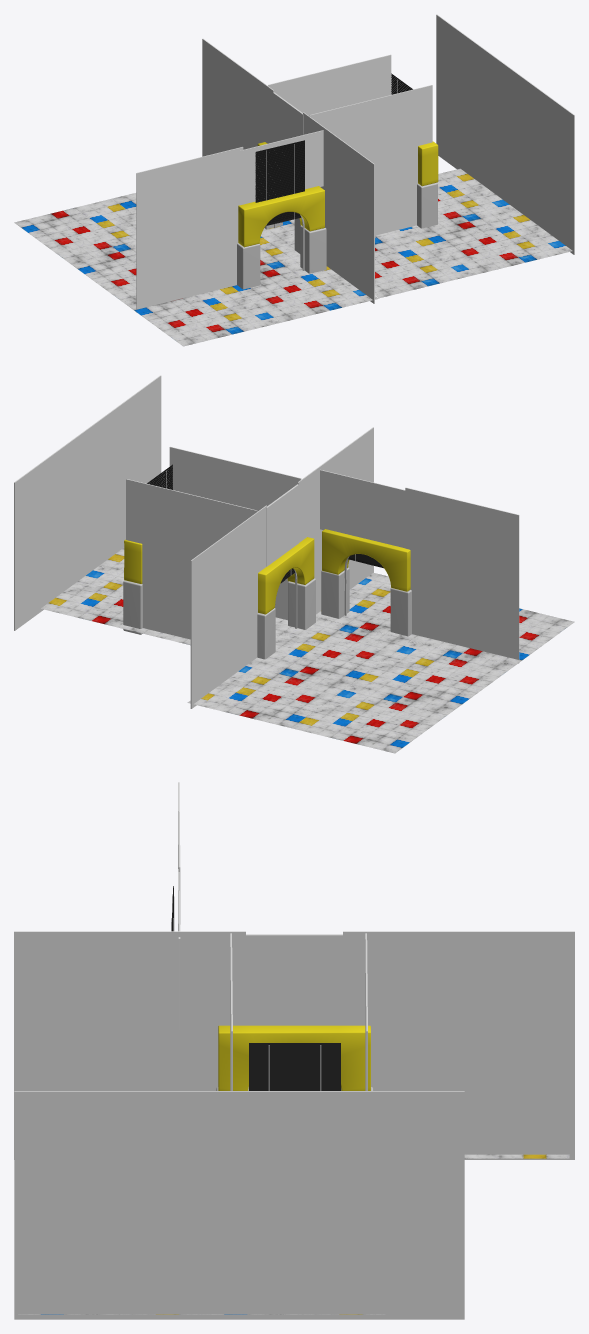
Rendered from Project playtime menu.fbx.
The picture shows the model from 3 angles, top to bottom: view 1: azimuth 30°, elevation 25°; view 2: azimuth 150°, elevation 25°; view 3: azimuth 270°, elevation 25°; orthographic projection. The views are drawn at different scales.
Parts seen in each view (by area): view 1: Cube.007, Cube.010, Cube.009, Plano.008, Plano.004, Cube.019, Plano.003, Cube.017, Cube.011, Plano.002, Cube.018, Cube.016 (+20 smaller); view 2: Cube.007, Cube.010, Plano.004, Plano.005, Plano.001, Cube.019, Plano, Cube.017, Cube.016, Cube.009, Cube.020, Cube.018 (+22 smaller); view 3: Cube.007, Cube.009, Cube.010, Cube.004, Cube.003, Cube.006, Cube.001, Cube.008, Cube.002, dome_room_walls.016, factory_grate.002, Cube.005.
Boxes of the visible parts, x1,y1,x2,y2 form: Cube.007: [436, 14, 574, 161]; Cube.010: [436, 61, 574, 208]; Cube.009: [436, 108, 574, 254]; Plano.008: [421, 210, 572, 274]; Plano.004: [14, 198, 136, 263]; Cube.019: [136, 147, 243, 219]; Plano.003: [127, 286, 280, 346]; Cube.017: [136, 194, 239, 265]; Cube.011: [309, 85, 432, 150]; Plano.002: [232, 263, 378, 322]; Cube.018: [136, 241, 238, 312]; Cube.016: [268, 54, 391, 115]; Cube.007: [14, 375, 161, 531]; Cube.010: [14, 425, 161, 581]; Plano.004: [291, 684, 454, 753]; Plano.005: [351, 640, 514, 709]; Plano.001: [187, 660, 350, 727]; Cube.019: [405, 487, 519, 564]; Plano: [253, 617, 410, 683]; Cube.017: [405, 537, 519, 613]; Cube.016: [126, 479, 257, 548]; Cube.009: [14, 500, 125, 630]; Cube.020: [320, 469, 405, 548]; Cube.018: [410, 588, 519, 663]; Cube.007: [14, 1091, 464, 1167]; Cube.009: [14, 1243, 464, 1319]; Cube.010: [14, 1167, 464, 1243]; Cube.004: [14, 931, 245, 1008]; Cube.003: [343, 931, 574, 1008]; Cube.006: [14, 1008, 245, 1083]; Cube.001: [344, 1007, 574, 1083]; Cube.008: [245, 934, 343, 1025]; Cube.002: [371, 1084, 574, 1159]; dome_room_walls.016: [218, 1025, 370, 1090]; factory_grate.002: [249, 1043, 340, 1090]; Cube.005: [14, 1084, 218, 1159].
Size of the model in its own units: 4085 by 1417 by 3104.
